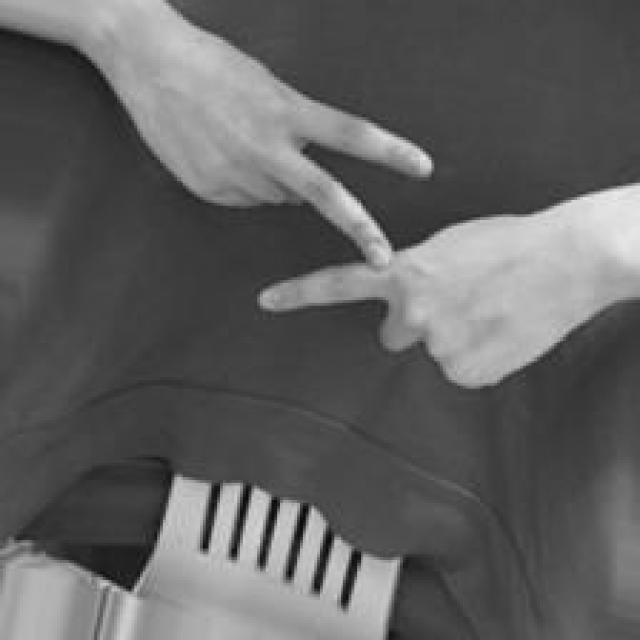Z: (151, 40, 640, 391)
